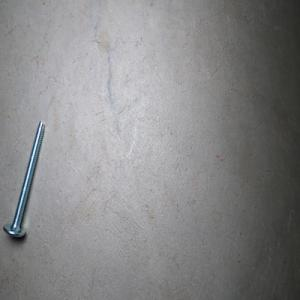Bolt: (2, 120, 45, 238)
